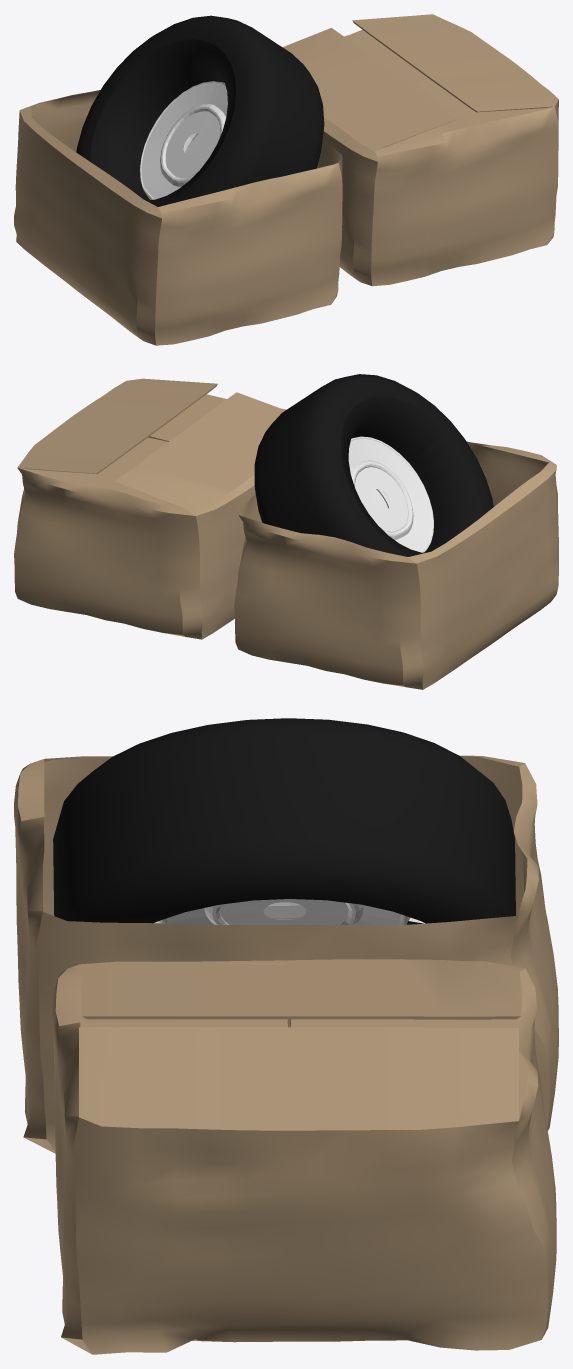
The model's file is kardus dan tires.fbx.
3 views of the same model, one above another, from view 1: azimuth 30°, elevation 25°; view 2: azimuth 150°, elevation 25°; view 3: azimuth 270°, elevation 25° (orthographic). The views are drawn at different scales.
Visible parts, largest first — view 1: Mesh_0.002, Mesh_0.003, NameBoard.001; view 2: Mesh_0.002, Mesh_0.003, NameBoard.001; view 3: Mesh_0.002, NameBoard.001, Mesh_0.003.
Boxes of the visible parts, box(x1,y1,x2,y2) form: Mesh_0.002: box(282, 14, 558, 286); Mesh_0.003: box(14, 90, 342, 345); NameBoard.001: box(76, 15, 324, 206); Mesh_0.002: box(14, 378, 286, 639); Mesh_0.003: box(234, 441, 558, 689); NameBoard.001: box(254, 374, 493, 556); Mesh_0.002: box(52, 959, 556, 1354); NameBoard.001: box(53, 718, 515, 925); Mesh_0.003: box(14, 755, 558, 1153).
Bounding box in the file's own units: 108 × 55.79 × 66.46.
